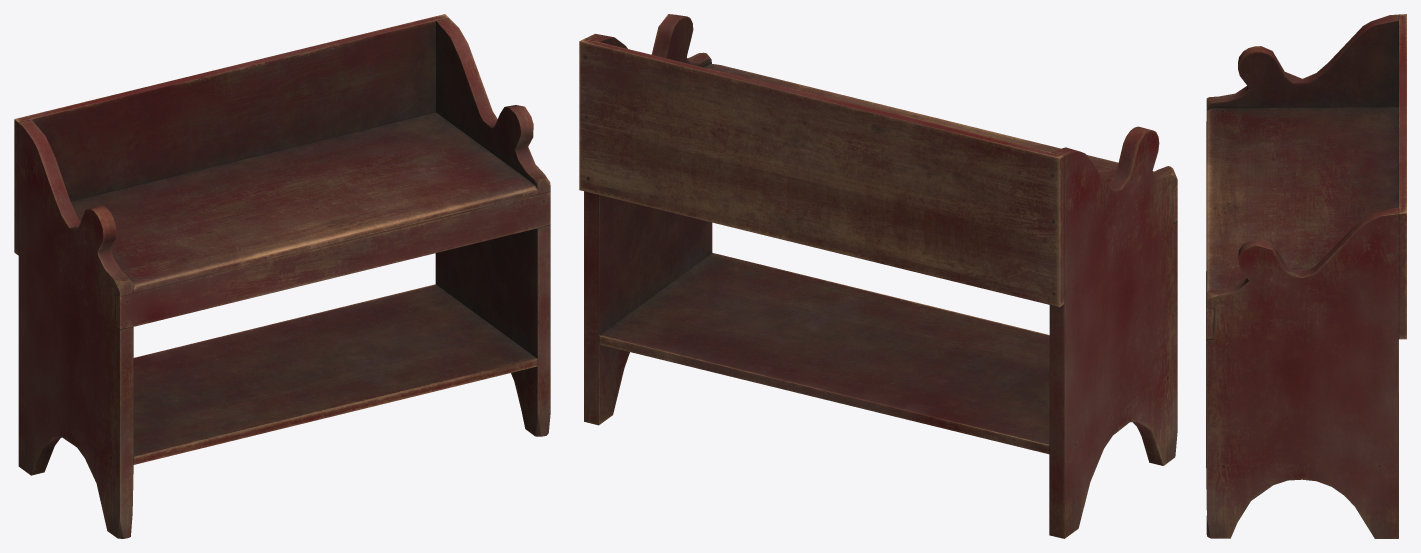
Rendered from painted-wooden-bench.glb.
3 views of the same model, side by side, from view 1: azimuth 30°, elevation 25°; view 2: azimuth 150°, elevation 25°; view 3: azimuth 270°, elevation 25° (orthographic). The views are drawn at different scales.
Parts seen in each view (by area): view 1: painted_wooden_bench; view 2: painted_wooden_bench; view 3: painted_wooden_bench.
Part boxes in pixels (<box>): painted_wooden_bench: <box>14,14,550,538</box>; painted_wooden_bench: <box>579,14,1177,538</box>; painted_wooden_bench: <box>1206,14,1406,538</box>.
Size of the model in its own units: 1.16 by 0.8893 by 0.4965.
Materials: 1 (1 with a texture image).
